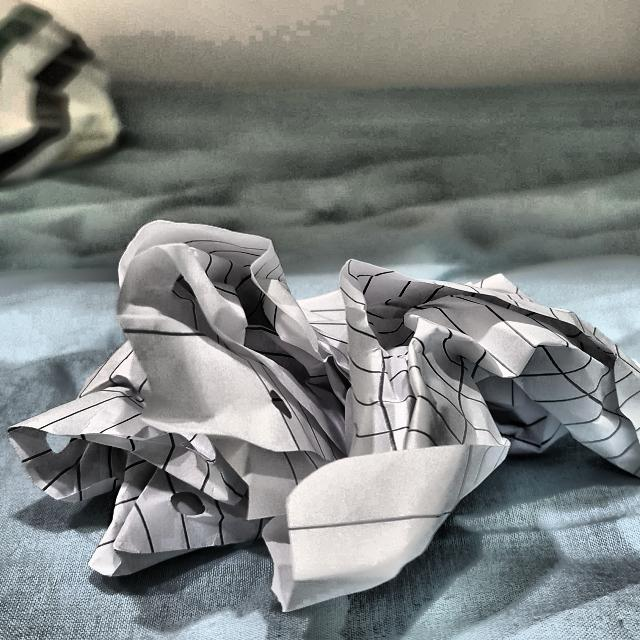paper: (45, 202, 640, 596)
